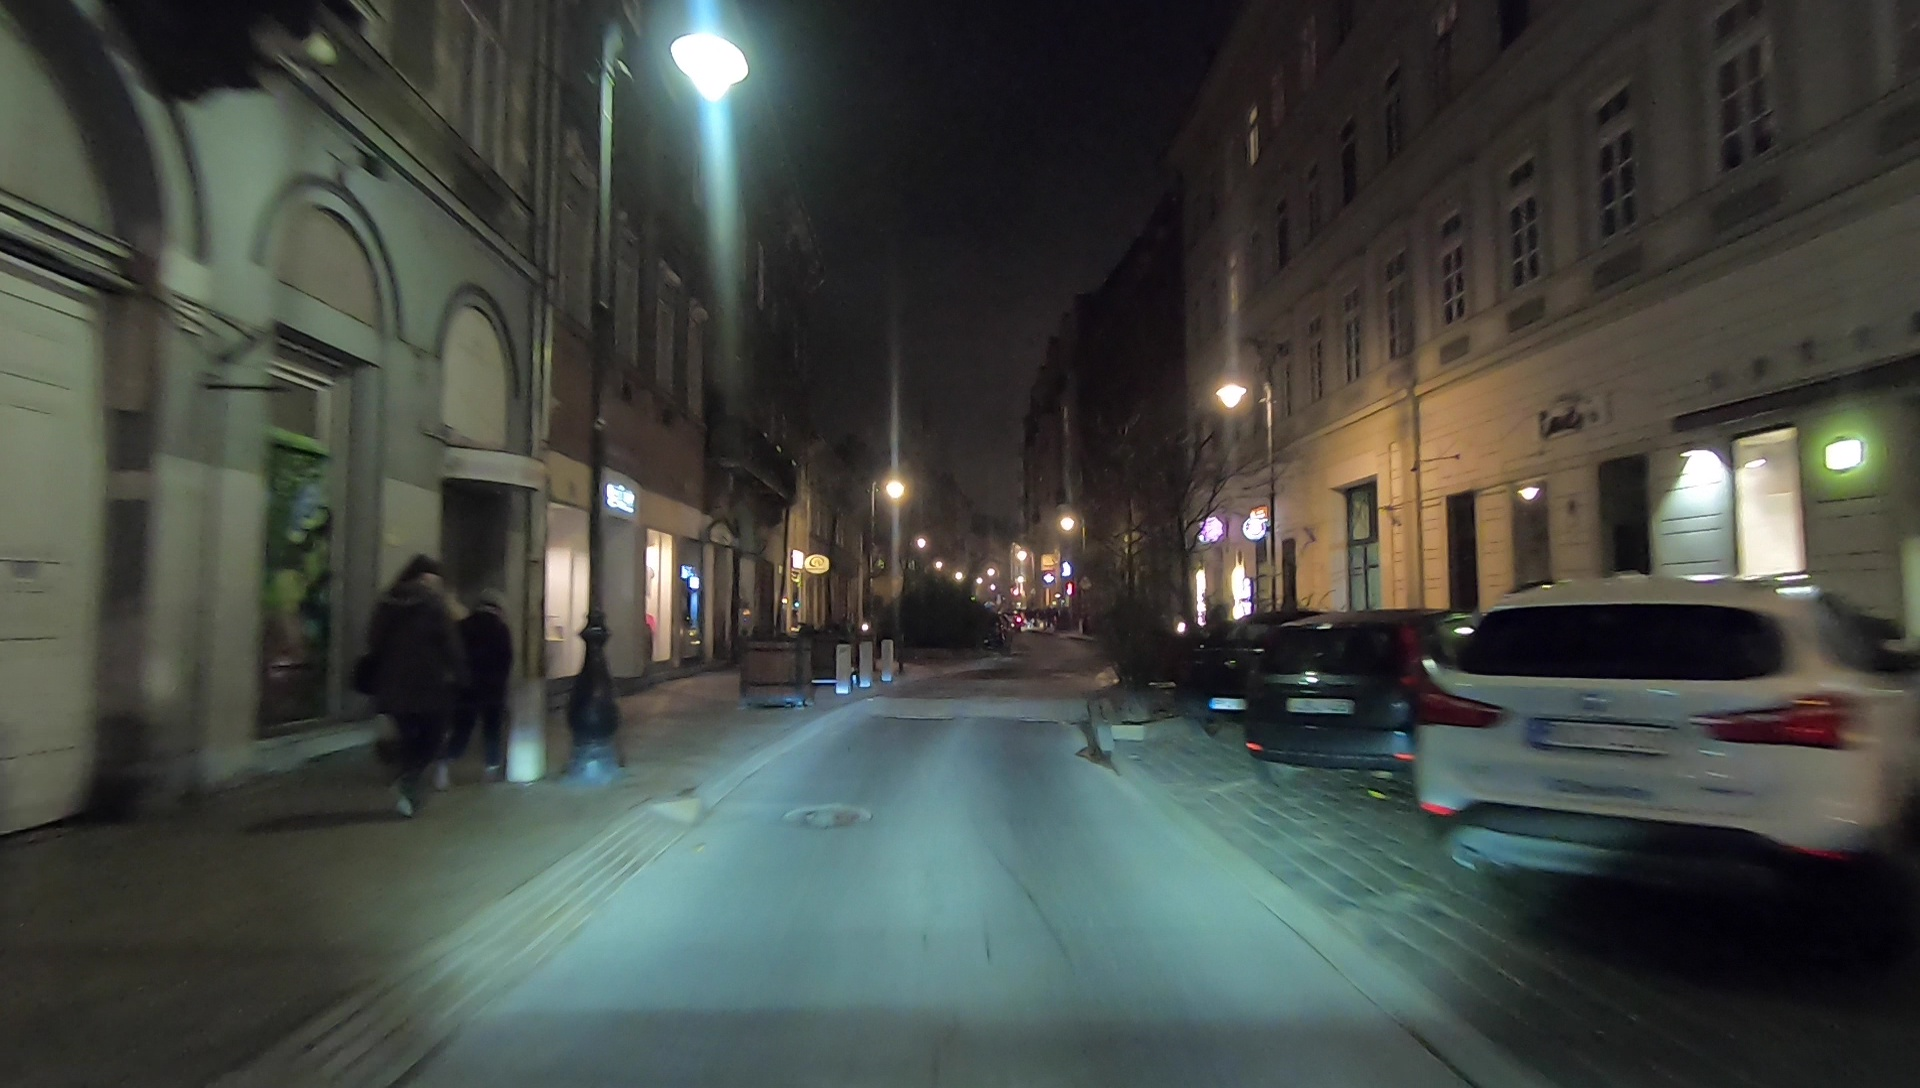person: (376, 552, 460, 815), (443, 571, 512, 787)
